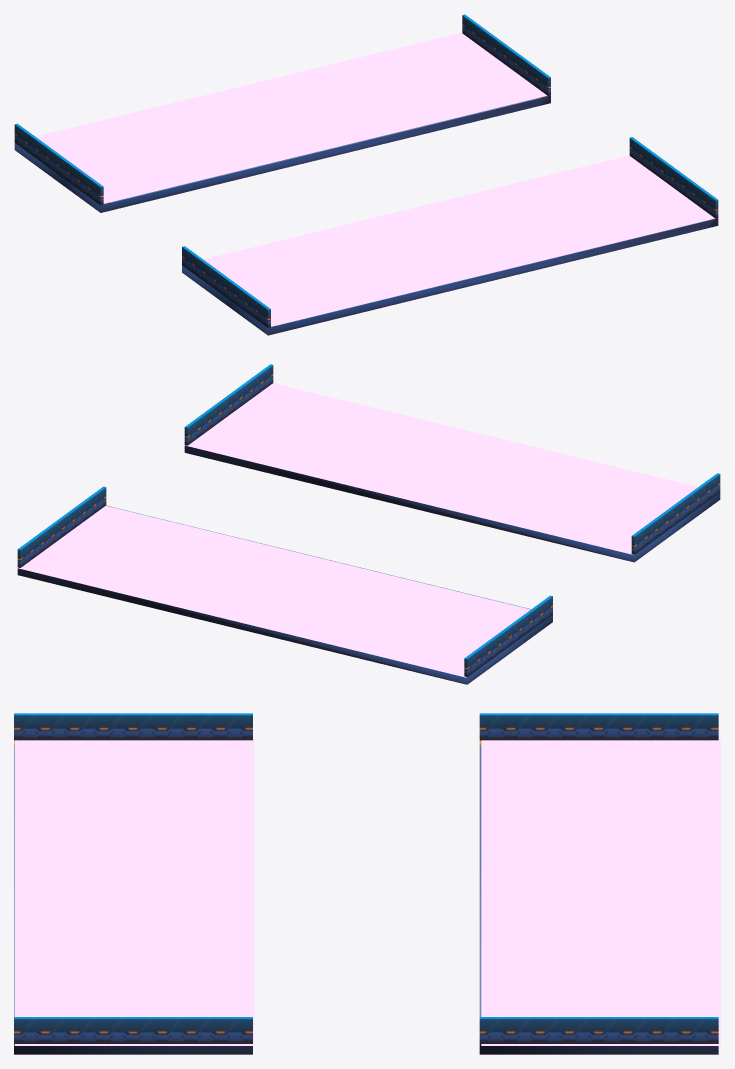
The model's file is Battle_Stage 32.fbx.
3 renders of one model, top to bottom at view 1: azimuth 30°, elevation 25°; view 2: azimuth 150°, elevation 25°; view 3: azimuth 270°, elevation 25°, orthographic. The views are drawn at different scales.
Parts seen in each view (by area): view 1: Plane.079, Plane.084, Plane.082, Plane.081, Plane.083, Plane.080, DB_Platform_Cube_Floor.027, DB_Platform_Cube_Floor.014; view 2: Plane.079, Plane.084, Plane.082, Plane.081, Plane.083, Plane.080, DB_Platform_Cube_Floor.027, DB_Platform_Cube_Floor.014; view 3: DB_Platform_Cube_Floor.014, Plane.082, Plane.079, Plane.083, Plane.080, Plane.084, Plane.081, DB_Platform_Cube_Floor.027.
Boxes of the visible parts, x1,y1,x2,y2 form: Plane.079: (159,67,404,165); Plane.084: (475,155,720,255); Plane.082: (334,193,572,291); Plane.081: (310,32,552,133); Plane.083: (203,225,427,326); Plane.080: (14,103,259,203); DB_Platform_Cube_Floor.027: (14,96,718,335); DB_Platform_Cube_Floor.014: (14,14,718,327); Plane.079: (162,543,407,641); Plane.084: (182,383,426,483); Plane.082: (330,418,574,518); Plane.081: (14,506,259,603); Plane.083: (474,453,697,554); Plane.080: (307,575,530,677); DB_Platform_Cube_Floor.027: (17,445,720,684); DB_Platform_Cube_Floor.014: (17,364,720,677); DB_Platform_Cube_Floor.014: (14,713,718,1044); Plane.082: (14,837,254,945); Plane.079: (481,837,720,945); Plane.083: (14,738,254,846); Plane.080: (481,738,720,846); Plane.084: (14,937,254,1045); Plane.081: (481,937,720,1045); DB_Platform_Cube_Floor.027: (14,745,718,1054).
Bounding box in the file's own units: 6367 × 347 × 6176.
